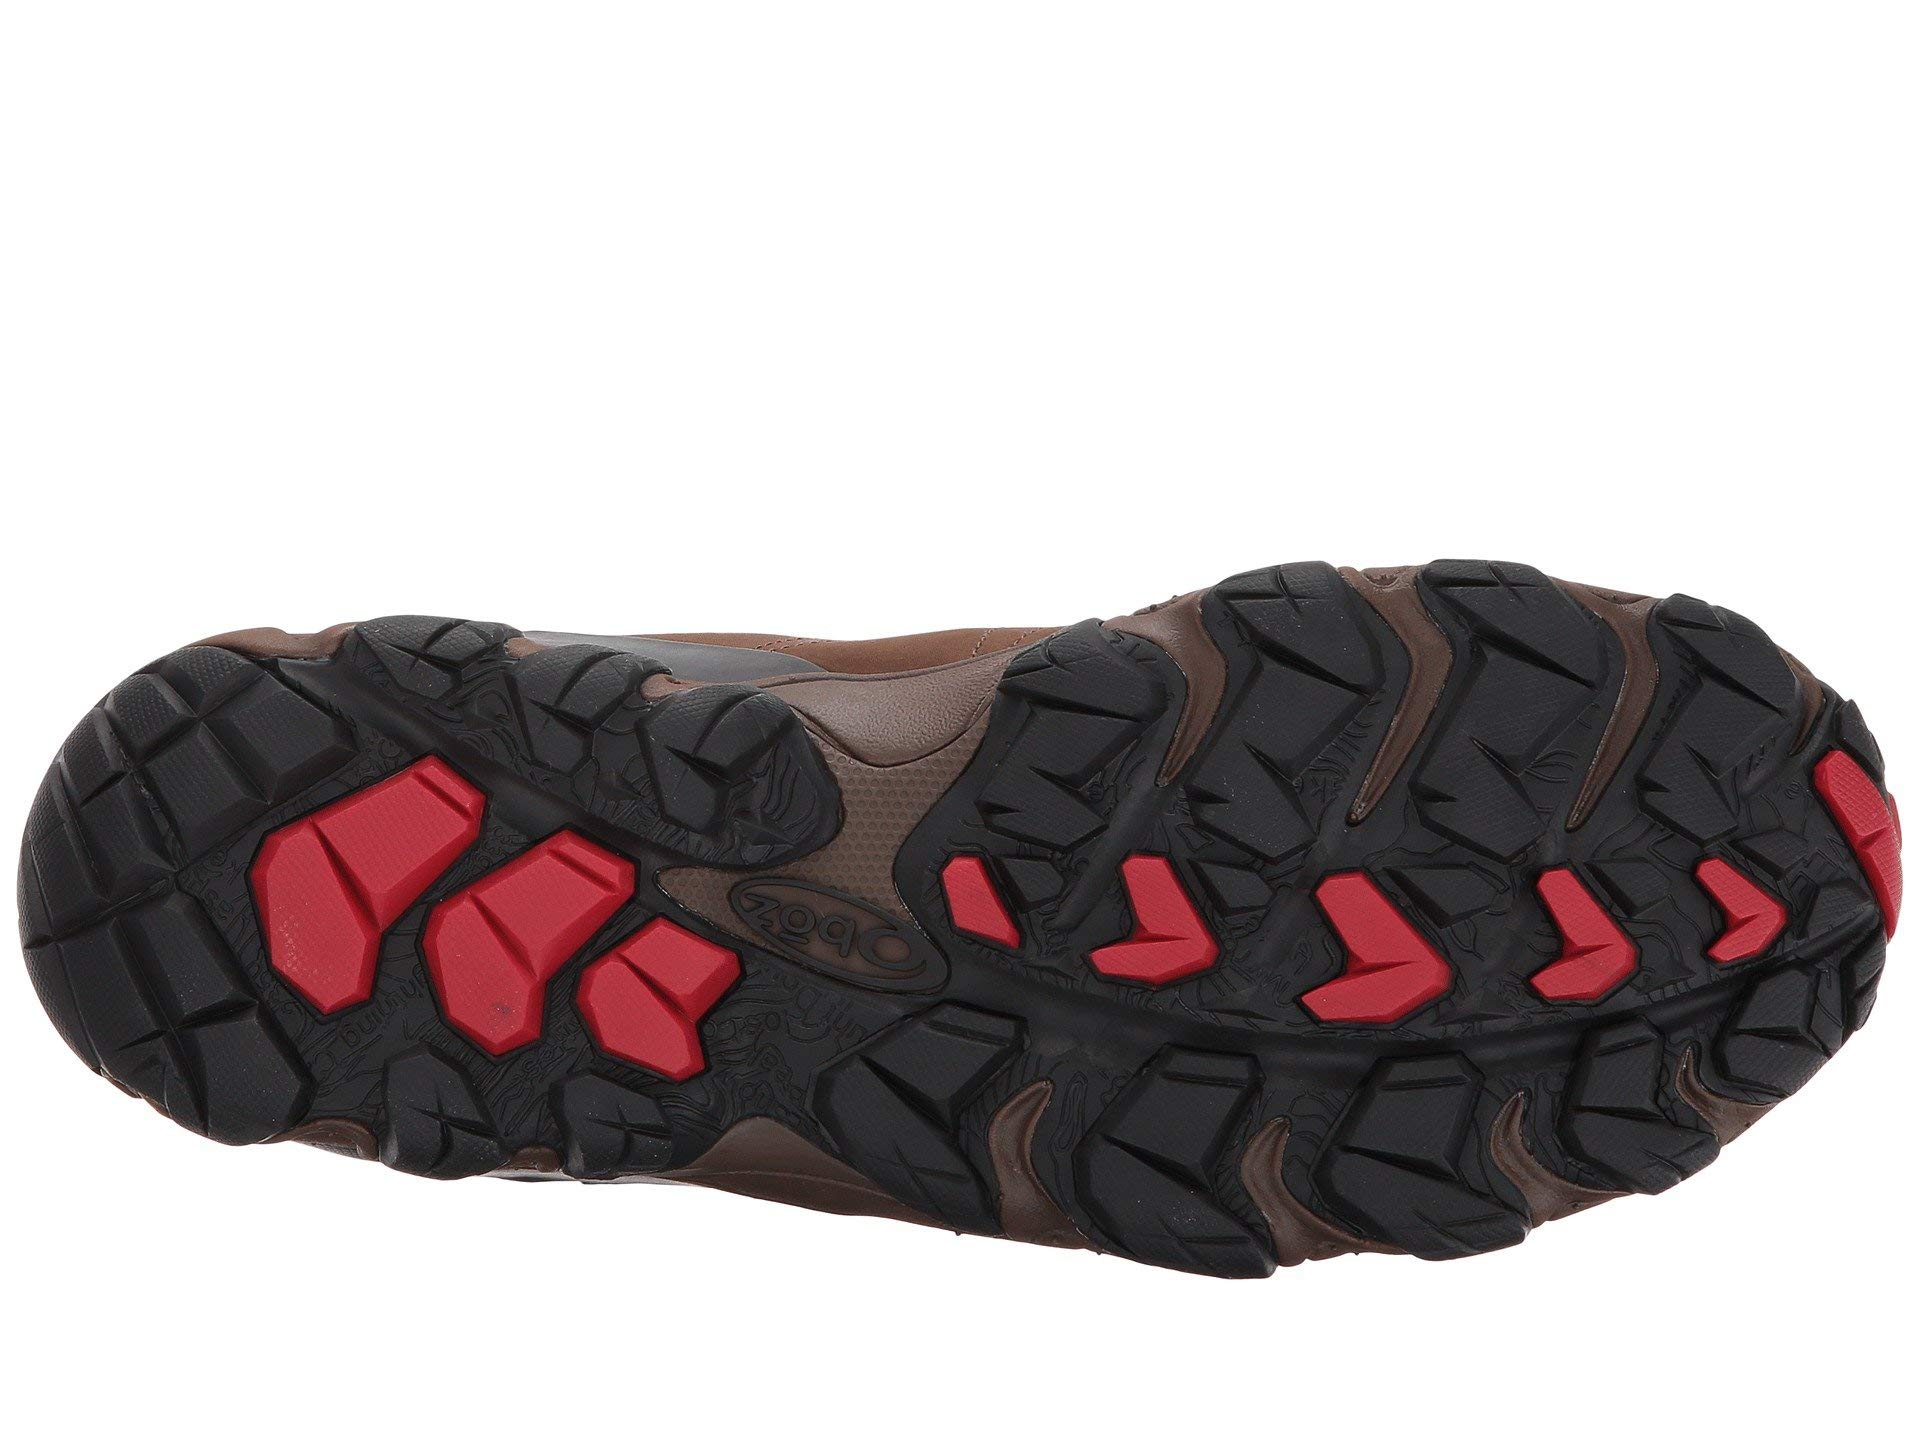chevron: (1188, 836, 1686, 1045)
circle: (714, 855, 931, 995)
line: (45, 685, 342, 895), (714, 855, 931, 995)
quad: (1188, 836, 1686, 1045), (45, 685, 342, 895), (317, 1041, 688, 1186)
text: (714, 855, 931, 995)
triangle: (317, 1041, 688, 1186)
